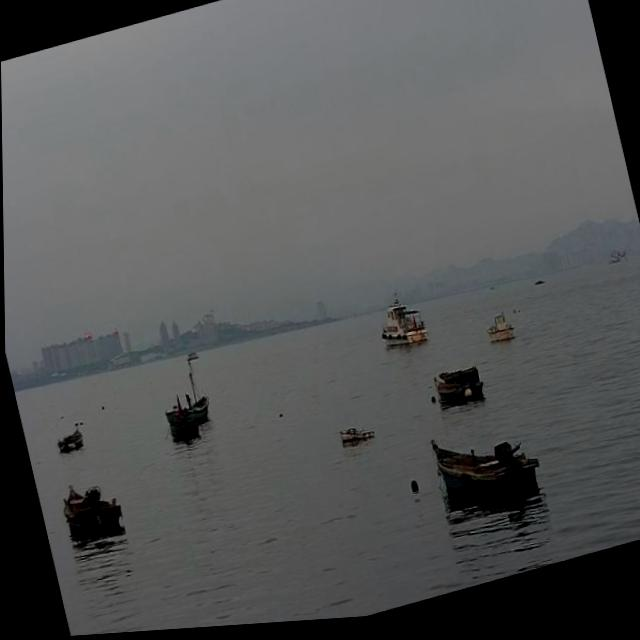ship2: (429, 447, 538, 507), (61, 485, 120, 549), (380, 304, 427, 356), (431, 373, 484, 417), (164, 393, 209, 443), (53, 424, 85, 457), (487, 321, 518, 352), (339, 431, 375, 455)
